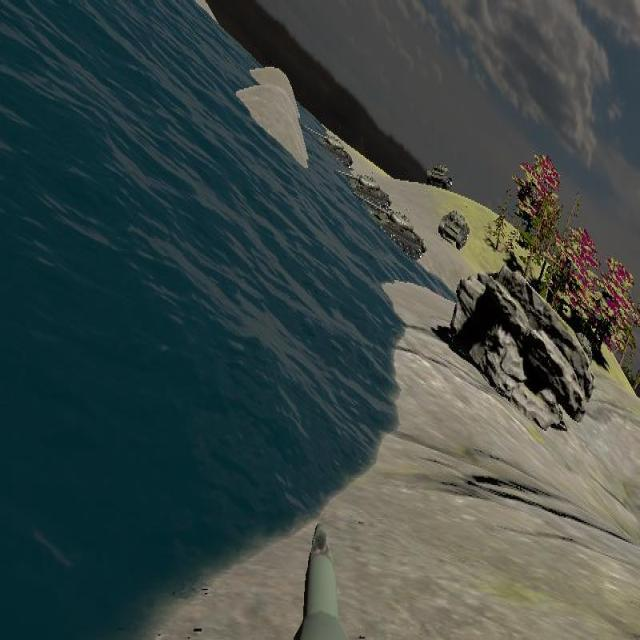Tank: (352, 193, 426, 261), (334, 166, 391, 214), (438, 208, 470, 250), (426, 162, 455, 191)
